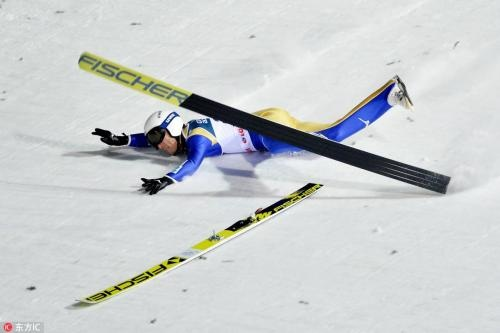falling: (84, 60, 428, 200)
